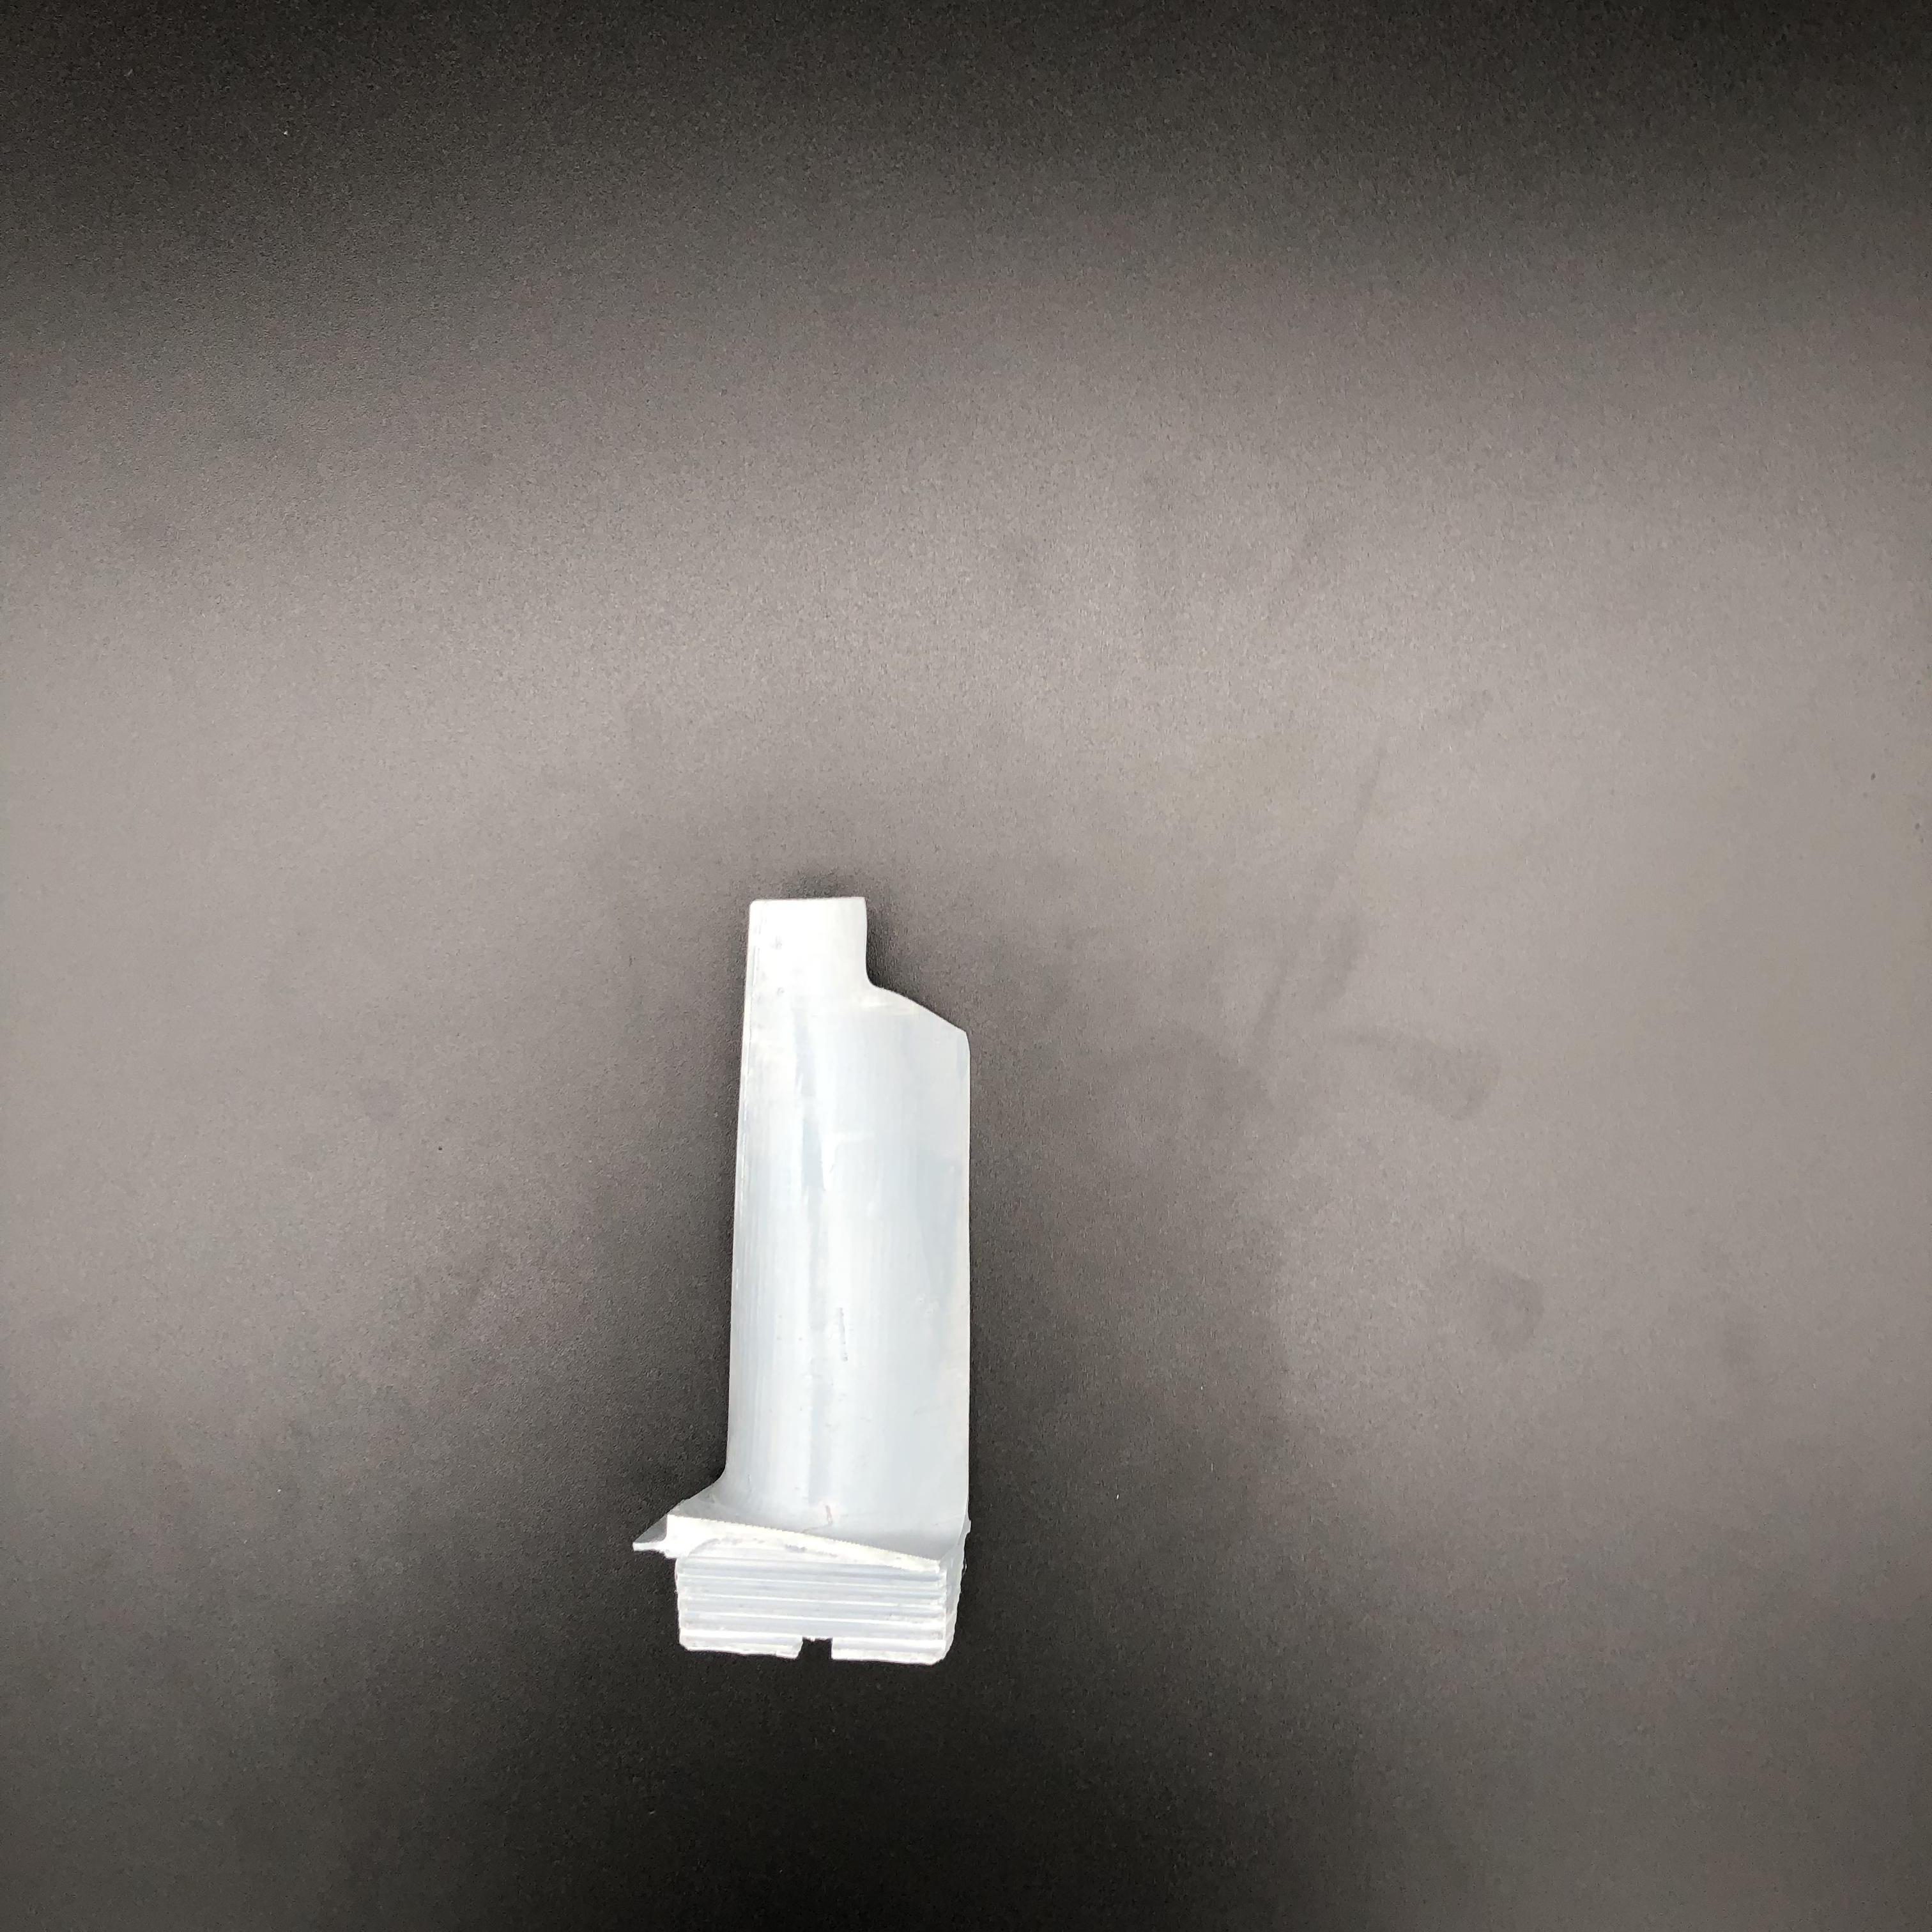fracture: (847, 893, 968, 1031)
